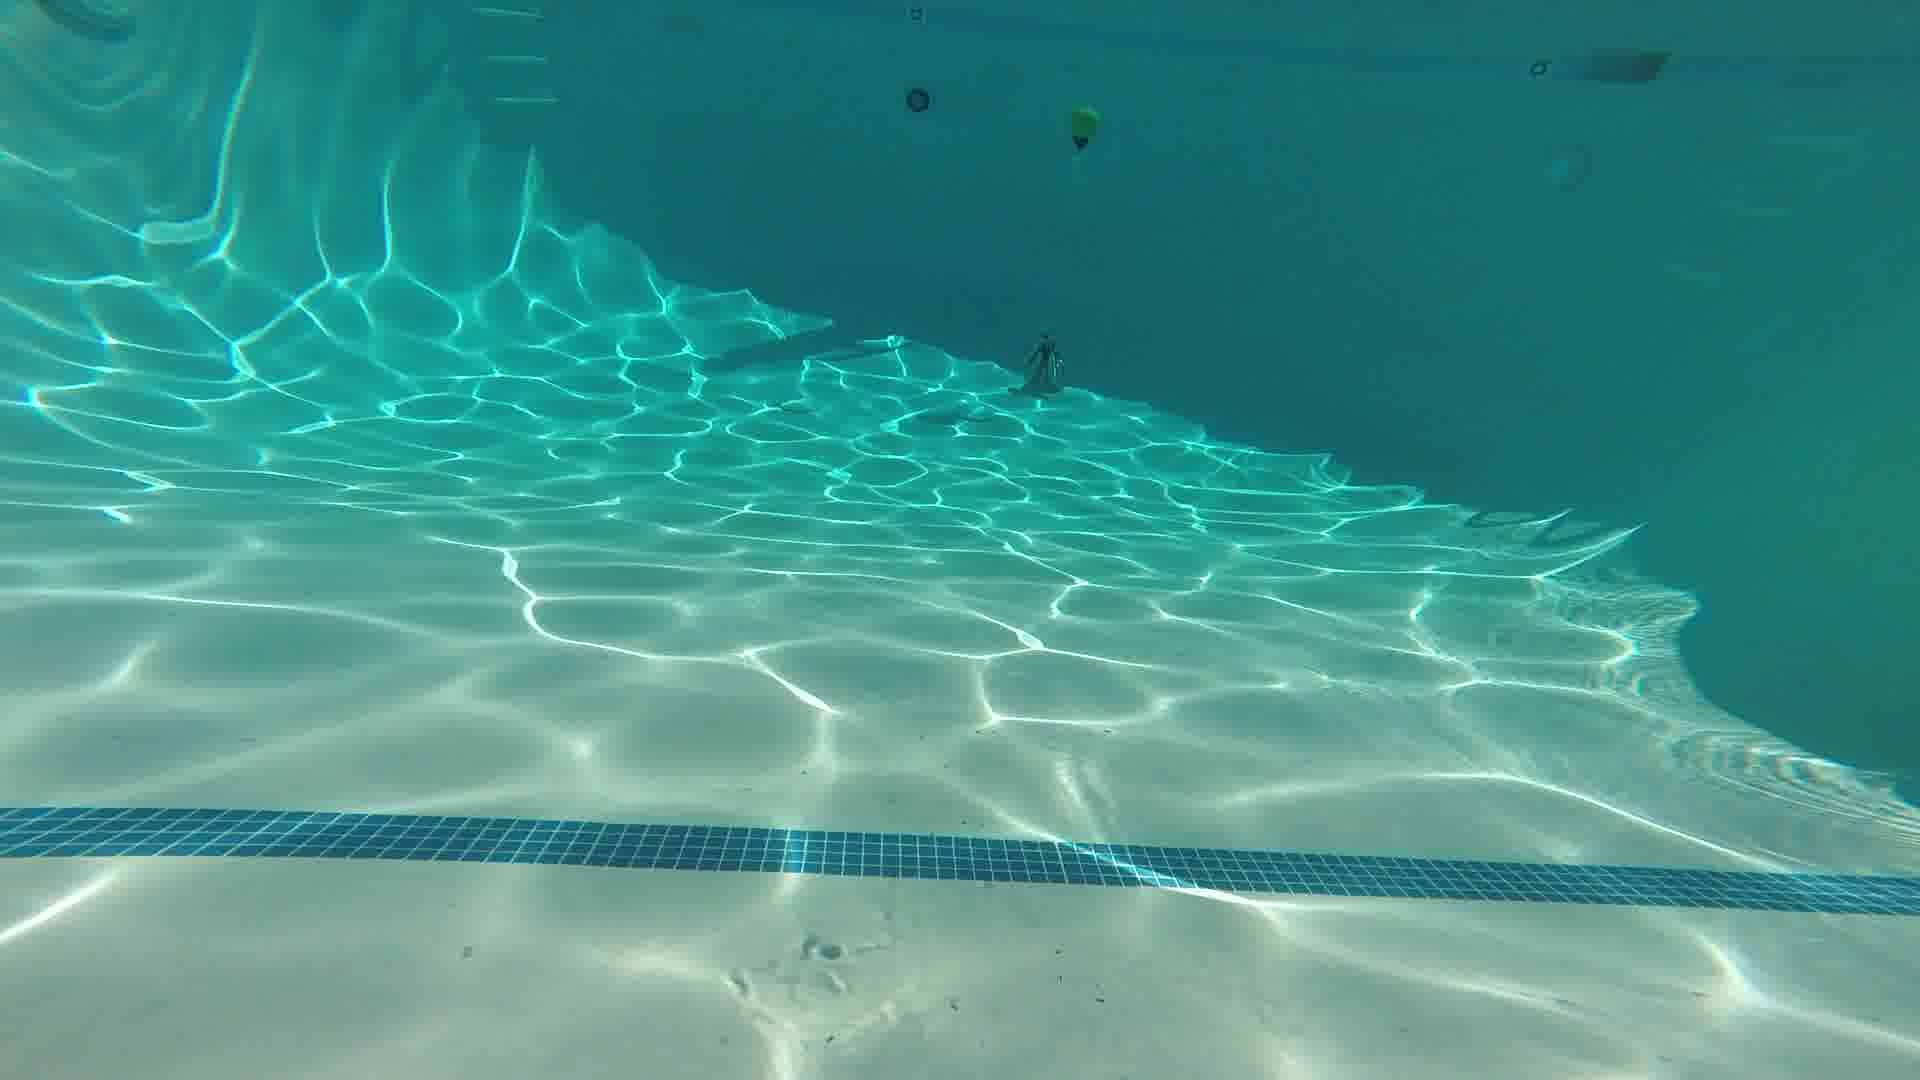yellow_buoy: (1062, 98, 1100, 157)
